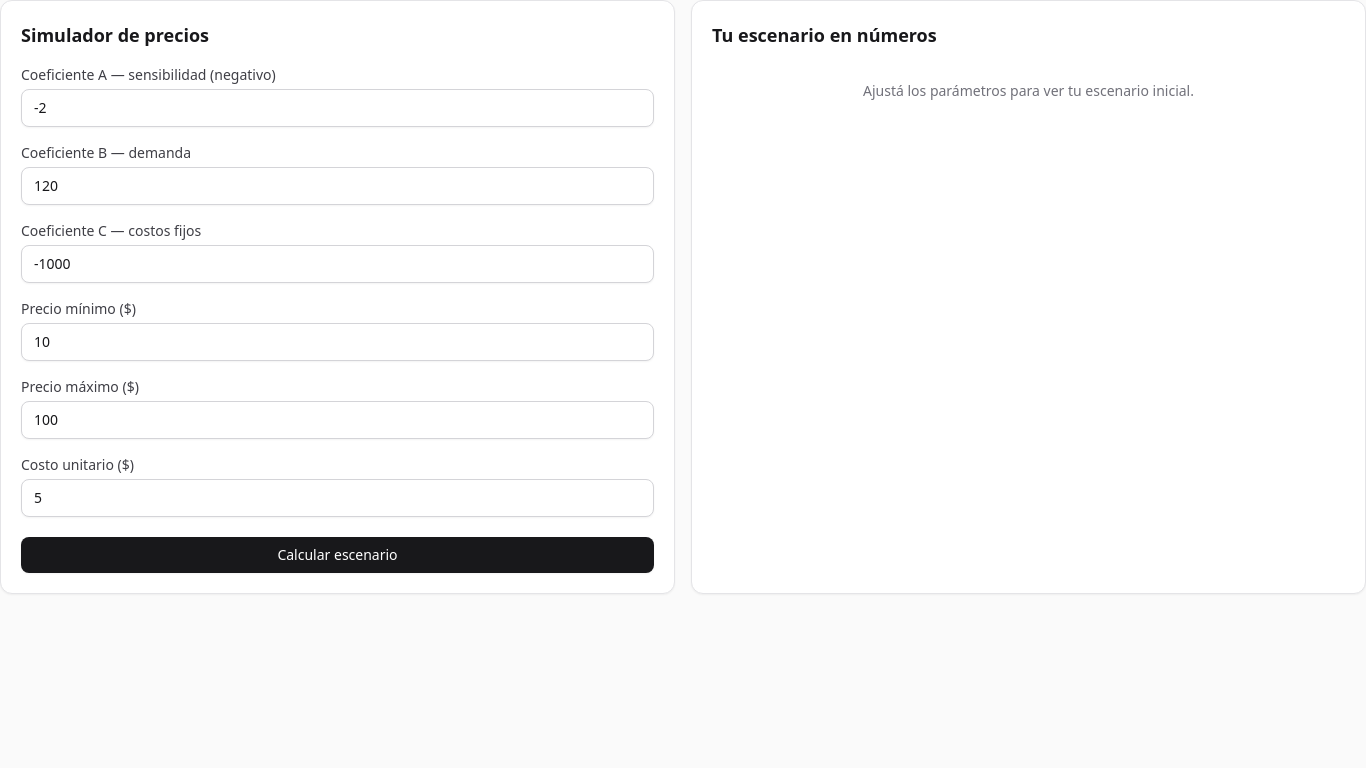
Test case: LeadMagnetForm — contrato honesto › fetch 400 → error visible con mensaje útil y sin resultado
Click the button with test id "lm-calc": (338, 555) x1=21 y1=537 x2=654 y2=573
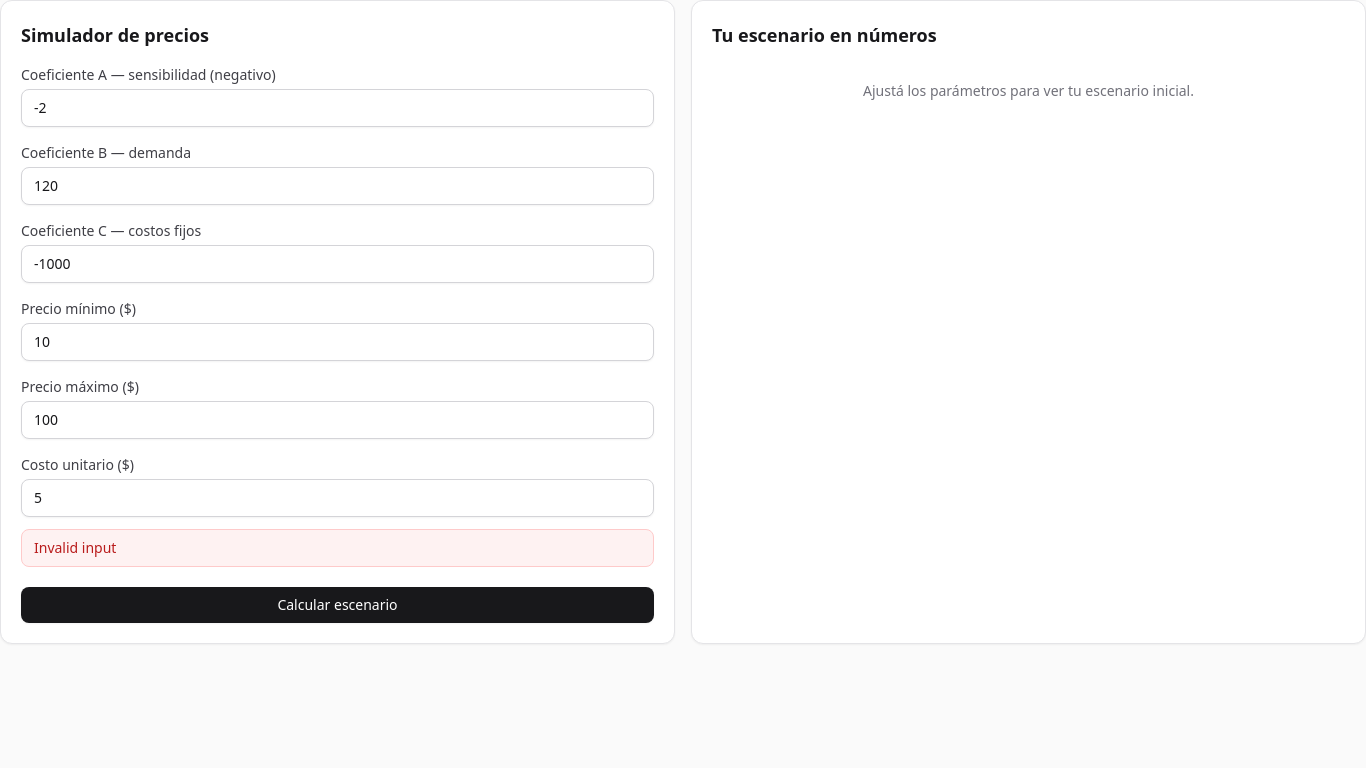
Check: the text "Ajustá los parámetros para ver tu escenario inicial." is shown, box x1=863 y1=81 x2=1194 y2=100
Check: the message "Invalid input" is shown, box x1=21 y1=529 x2=654 y2=567
Check: the message with test id "lm-error" reads "Invalid input", box x1=34 y1=538 x2=116 y2=557
